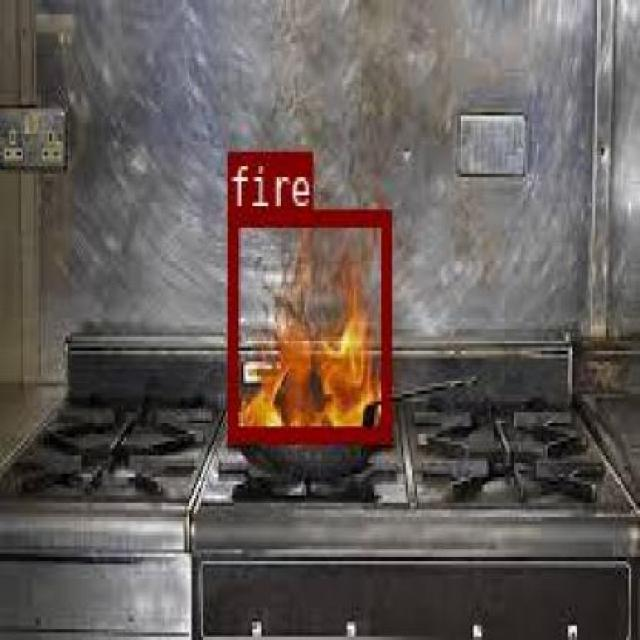Fire: (226, 208, 388, 438)
